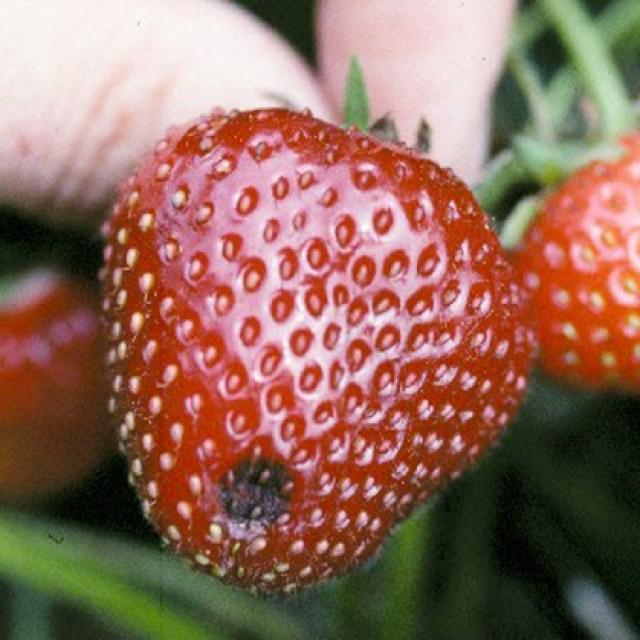Anthracnose Fruit Rot: (209, 452, 300, 583)
